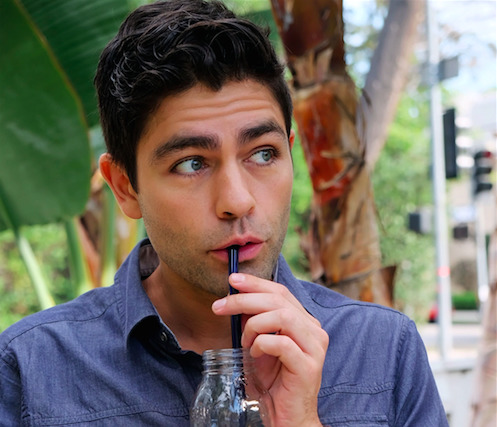drinking: (40, 6, 387, 381)
